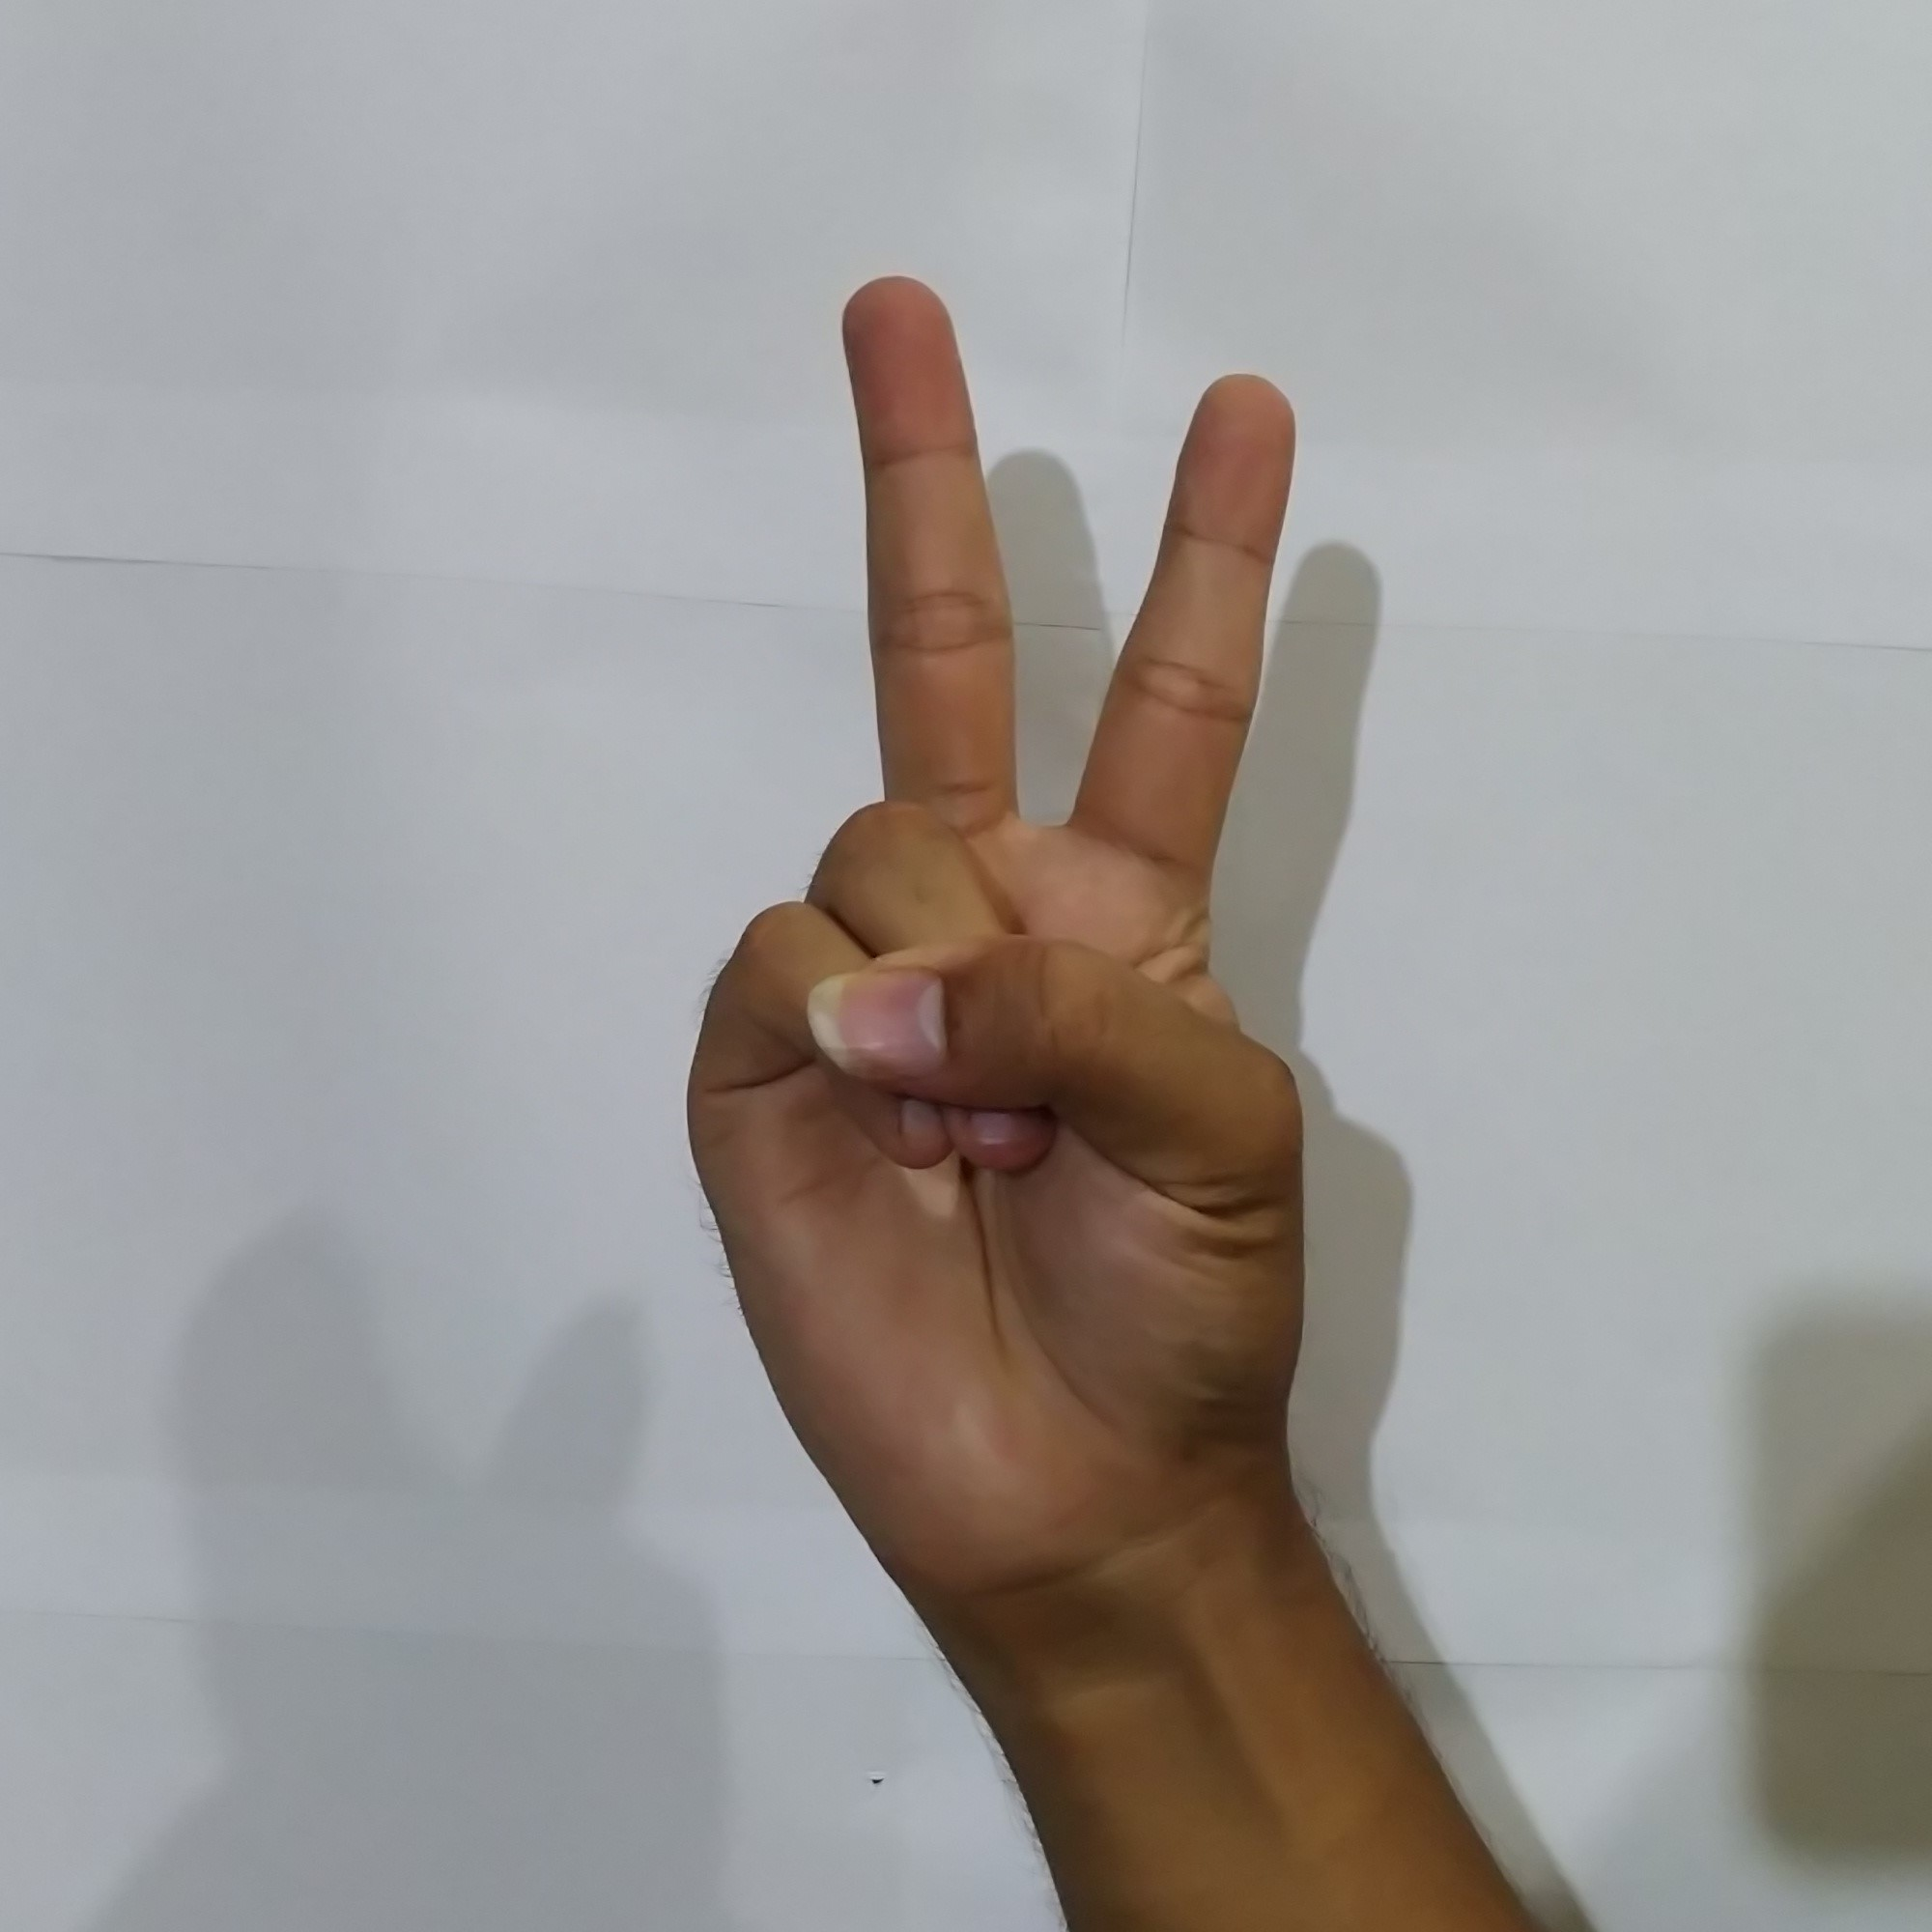V: (665, 246, 1329, 1573)
